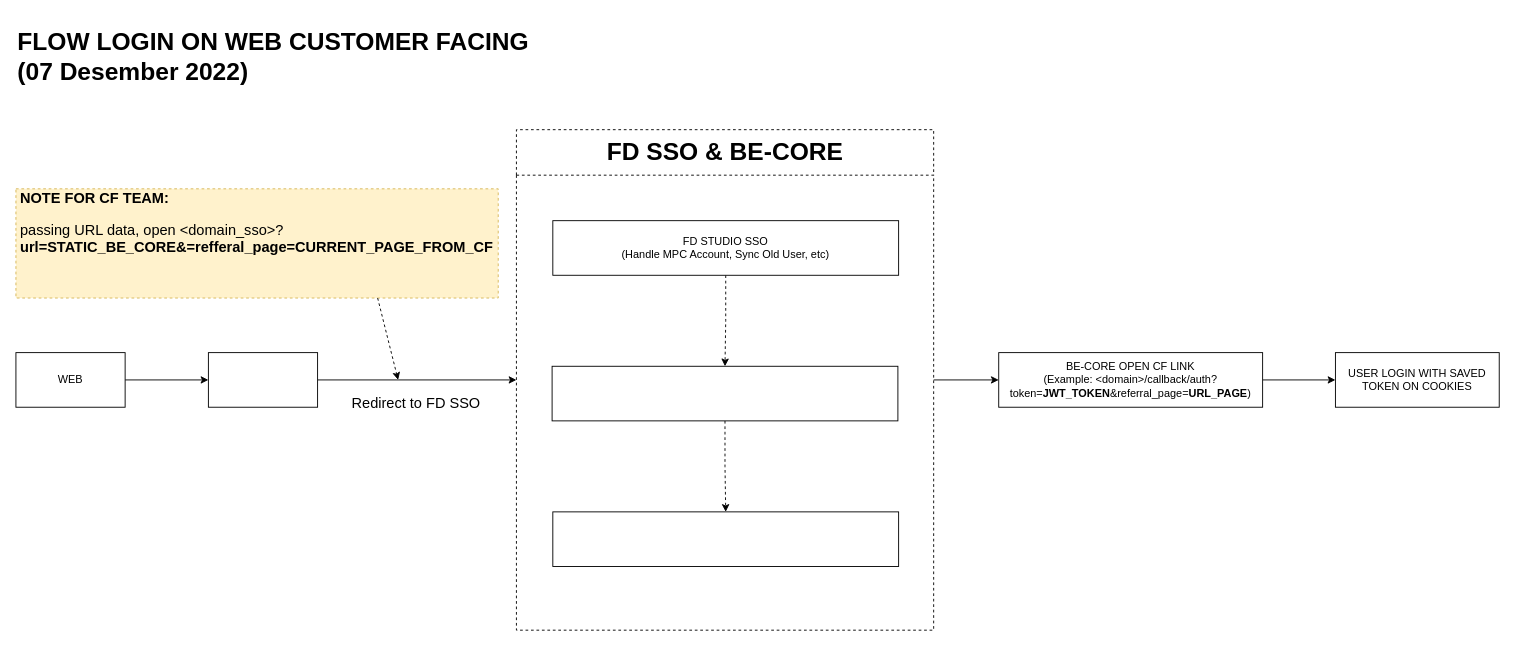
The diagram is 1515 pixels wide and 646 high, and some of its shapes have lost their labels. Here are the shapes that lost their labels. From the top down, the centre of each, then its label:
the point at 262,379: USER LOGIN / REGISTER
the point at 724,393: BE CORE SYNC WITH FD SYSTEM
the point at 725,538: BE CORE PREPARING JWT AND CALLBACK URL
